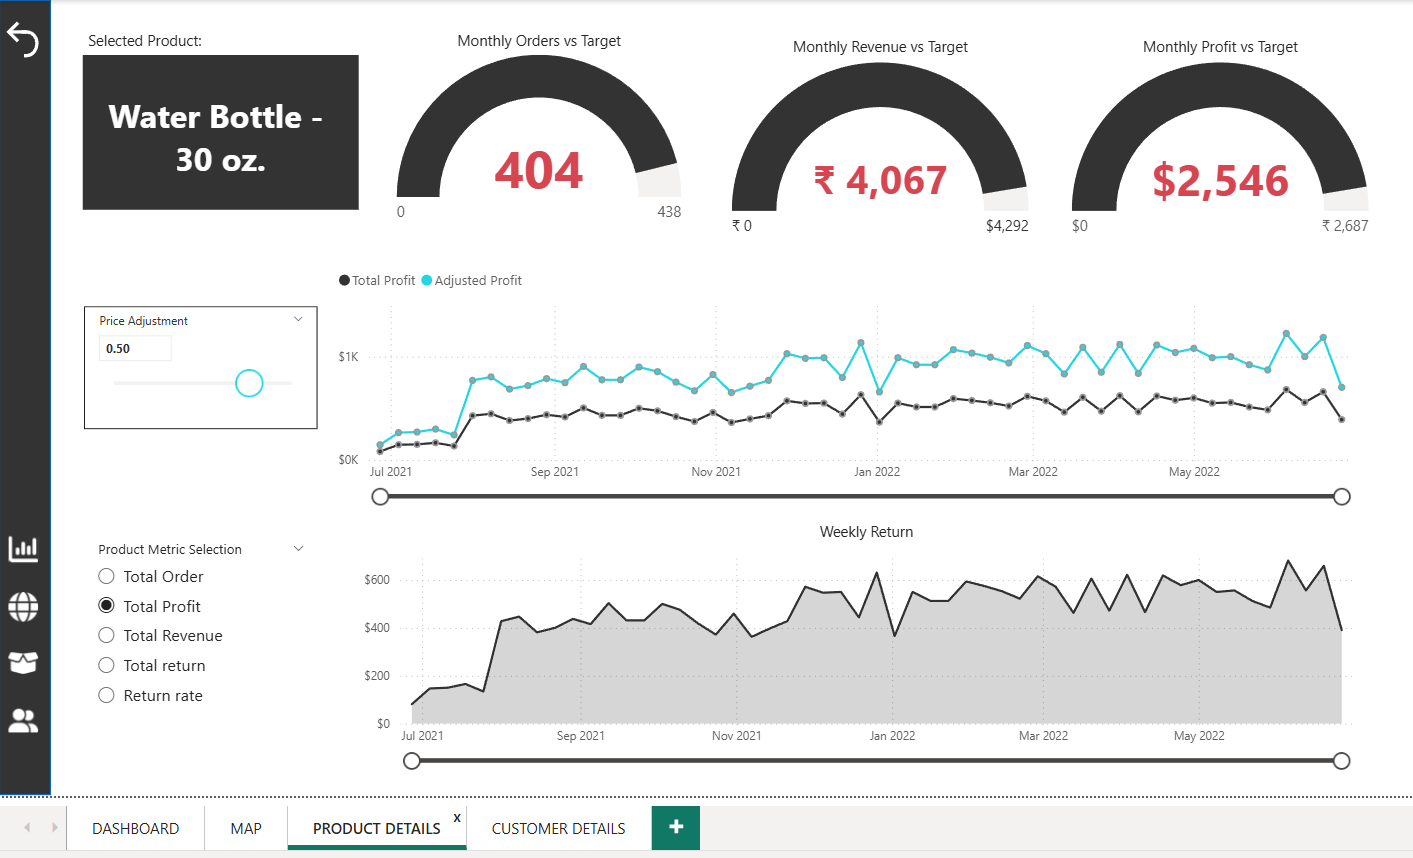

The page's visual inventory and layout, read from the dashboard file:
{"tool":"powerbi","page":{"name":"PRODUCT DETAILS","canvas":[1280,720],"ordinal":2},"visuals":[{"type":"shape","box":[0,0,47,719.2],"z":0},{"type":"gauge","title":"Monthly Orders vs Target","fields":{"Y":["Measure table.Total Order"],"MaxValue":["Measure table.Order Target"]},"box":[349.9,27.4,278.6,183.9],"z":1000},{"type":"actionButton","box":[4.7,471.8,34.8,51.5],"z":1000,"group":"g1"},{"type":"gauge","title":"Monthly Profit vs Target","fields":{"Y":["Measure table.Total Profit"],"MaxValue":["Measure table.Profit Target"]},"box":[966,32.9,278.6,192.1],"z":2000},{"type":"actionButton","box":[4.7,523.3,34.8,51.5],"z":2000,"group":"g1"},{"type":"gauge","title":"Monthly Revenue vs Target","fields":{"Y":["Measure table.Total Revenue"],"MaxValue":["Measure table.Revenue Target"]},"box":[658,32.9,278.6,192.1],"z":3000},{"type":"actionButton","box":[4.7,574.8,34.8,51.5],"z":3000,"group":"g1"},{"type":"lineChart","title":"Trending Profit","fields":{"Category":["Calendar Lookup.Year","Calendar Lookup.Start of Week","Calendar Lookup.Start of Month"],"Y":["Measure table.Total Profit","Measure table.Adjusted Profit"]},"box":[301.9,234,941.8,226.1],"z":4000},{"type":"actionButton","box":[4.7,626.3,34.8,51.5],"z":4000,"group":"g1"},{"type":"areaChart","title":"Weekly Return","fields":{"Y":["Measure table.Total Profit"],"Category":["Calendar Lookup.Year","Calendar Lookup.Start of Week","Calendar Lookup.Start of Month"]},"box":[325.6,471.5,918.1,227.3],"z":5000},{"type":"card","fields":{"Values":["Min(Product Lookup.ProductName)"]},"box":[75.5,49.4,249.7,140],"z":6000},{"type":"textbox","box":[75.2,23.1,124.9,35.7],"z":7000},{"type":"actionButton","box":[0,12.8,43.1,46.6],"z":8000},{"type":"group","id":"g1","title":"Navigation","box":[4.7,471.8,34.9,206.2],"z":9000},{"type":"slicer","fields":{"Values":["Price Adjustment.Price Adjustment"]},"box":[76.9,277,211.4,110.8],"z":10000},{"type":"slicer","fields":{"Values":["Product Metric Selection.Product Metric Selection"]},"box":[76.9,483.9,211.4,180.9],"z":11000}]}

Visuals, with their boxes on the page's 1280x720 design canvas (x1, y1, x2, y2). These are canvas units, not pixel positions in the 1413x858 screenshot, which may show the page scaled, cropped or inside an application window:
shape: x1=0 y1=0 x2=47 y2=719
"Monthly Orders vs Target" gauge: x1=350 y1=27 x2=628 y2=211
actionButton: x1=5 y1=472 x2=40 y2=523
"Monthly Profit vs Target" gauge: x1=966 y1=33 x2=1245 y2=225
actionButton: x1=5 y1=523 x2=40 y2=575
"Monthly Revenue vs Target" gauge: x1=658 y1=33 x2=937 y2=225
actionButton: x1=5 y1=575 x2=40 y2=626
"Trending Profit" lineChart: x1=302 y1=234 x2=1244 y2=460
actionButton: x1=5 y1=626 x2=40 y2=678
"Weekly Return" areaChart: x1=326 y1=472 x2=1244 y2=699
card - Min(Product Lookup.ProductName): x1=76 y1=49 x2=325 y2=189
textbox: x1=75 y1=23 x2=200 y2=59
actionButton: x1=0 y1=13 x2=43 y2=59
"Navigation" group: x1=5 y1=472 x2=40 y2=678
slicer - Price Adjustment.Price Adjustment: x1=77 y1=277 x2=288 y2=388
slicer - Product Metric Selection.Product Metric Selection: x1=77 y1=484 x2=288 y2=665
